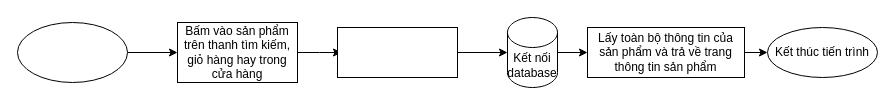
Image size: 895x105. Some labels were removed from this diagram. Each missing label, with the centre of its shape:
"Lấy ID sản phẩm" goes at (397,52).
"Xem thông tin sản phẩm" goes at (72,52).
